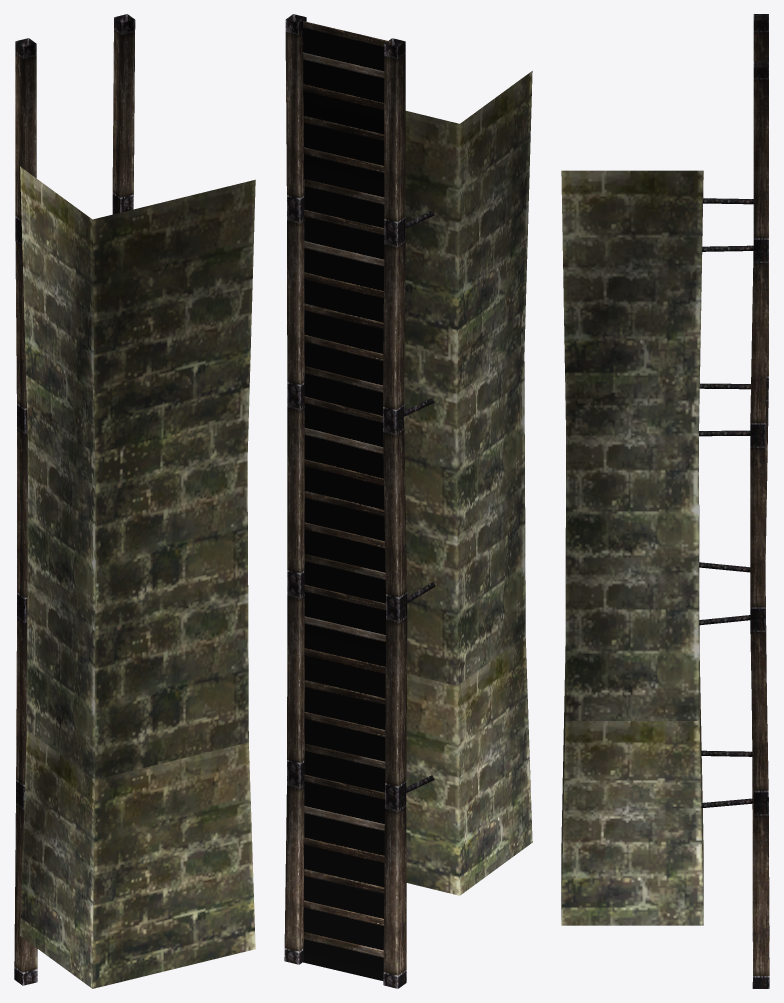
Rendered from OZ_30_kn_piller01A.glb.
The picture shows the model from 3 angles, left to right: view 1: azimuth 30°, elevation 25°; view 2: azimuth 150°, elevation 25°; view 3: azimuth 270°, elevation 25°; orthographic projection. The views are drawn at different scales.
Parts seen in each view (by area): view 1: OM_30_kn_piller01A; view 2: OM_30_kn_piller01A; view 3: OM_30_kn_piller01A.
Part boxes in pixels (x1,y1,x2,y2): OM_30_kn_piller01A: (14, 14, 255, 988); OM_30_kn_piller01A: (284, 14, 532, 988); OM_30_kn_piller01A: (561, 14, 769, 988).
Bounding box in the file's own units: 1.82 × 10.01 × 2.05.
Materials: 2 (2 with a texture image).
